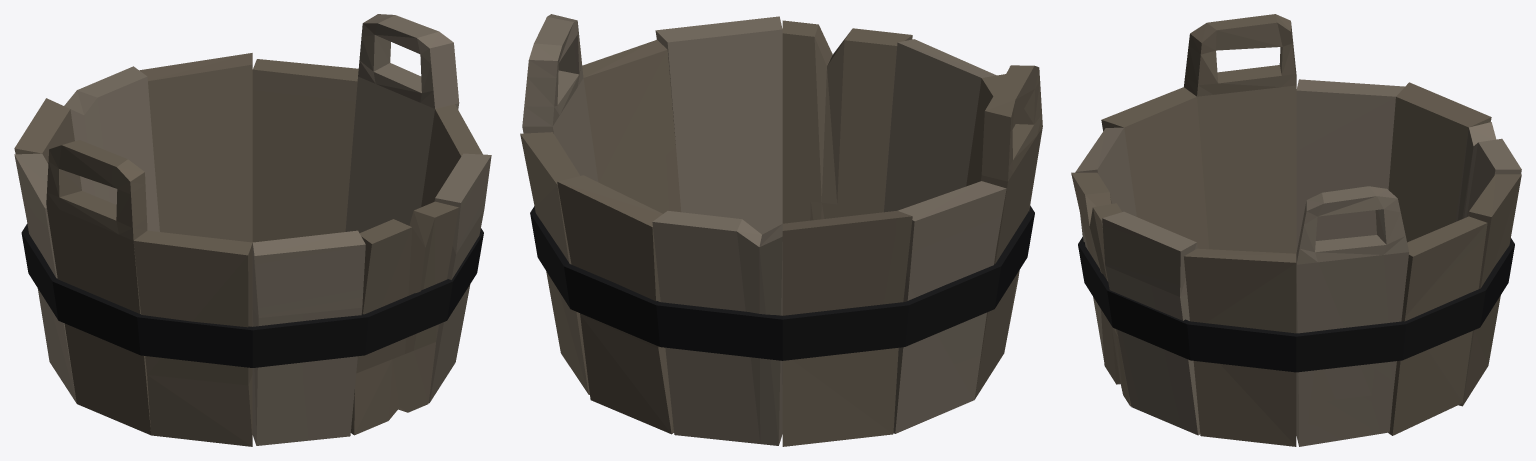
The model's file is basin.glb.
3 renders of one model, left to right at view 1: azimuth 30°, elevation 25°; view 2: azimuth 150°, elevation 25°; view 3: azimuth 270°, elevation 25°, orthographic. The views are drawn at different scales.
Parts seen in each view (by area): view 1: Basin; view 2: Basin; view 3: Basin.
Boxes of the visible parts, left/top/right/bottom form: Basin: left=14, top=14, right=491, bottom=446; Basin: left=520, top=14, right=1042, bottom=446; Basin: left=1071, top=14, right=1521, bottom=446.
Bounding box in the file's own units: 0.7626 × 0.4826 × 0.7626.
1 material, 1 textured.
